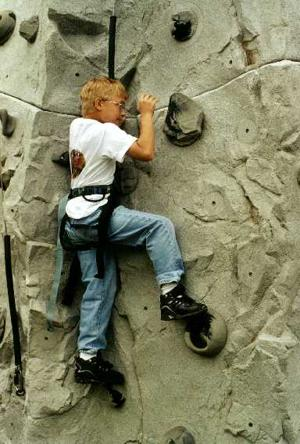person: (61, 77, 209, 384)
